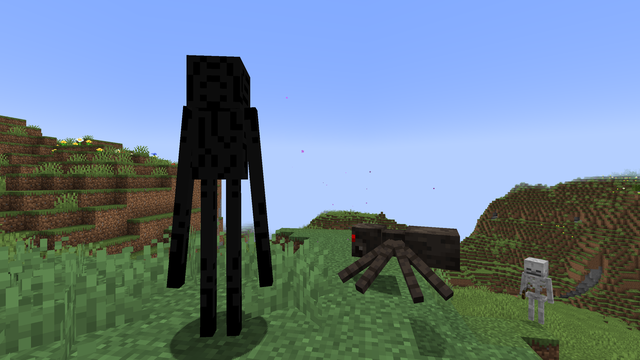araignees: (351, 215, 453, 296)
endermens: (175, 41, 258, 354)
squelettes: (520, 257, 552, 327)
